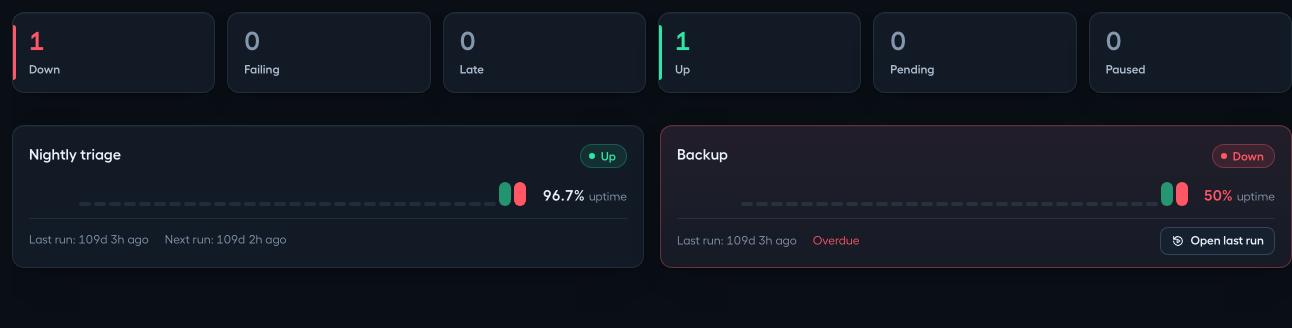
it: Monitors › filters to one status when its counter is pressed
Click the button "1 Down": coordinates (114, 52) [12,12,215,93]
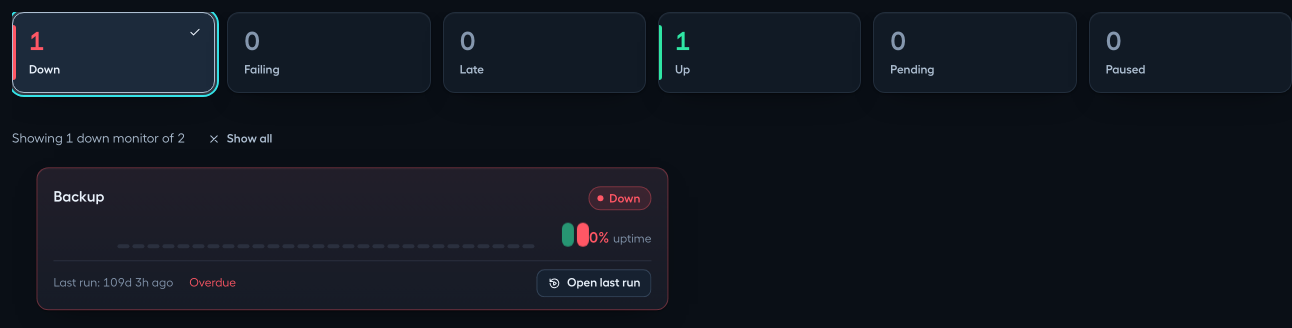
expect the link "Backup" is shown: met, box [41,188,92,208]
expect the link "Nightly triage" is gone: met
expect the text "Showing 1 down monitor of 2" is shown: met, box [12,129,185,148]
Click the button "Show all": coordinates (240, 139) [197,125,282,153]
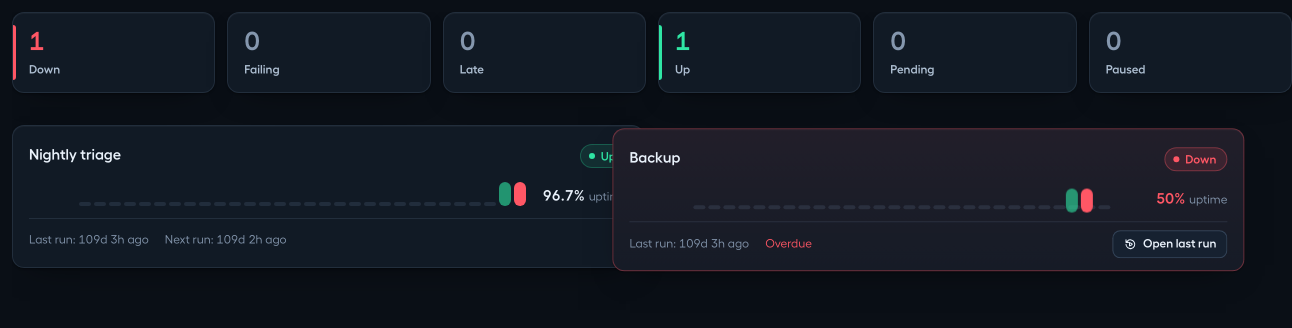
expect the link "Nightly triage" is shown: met, box [29,145,121,165]
